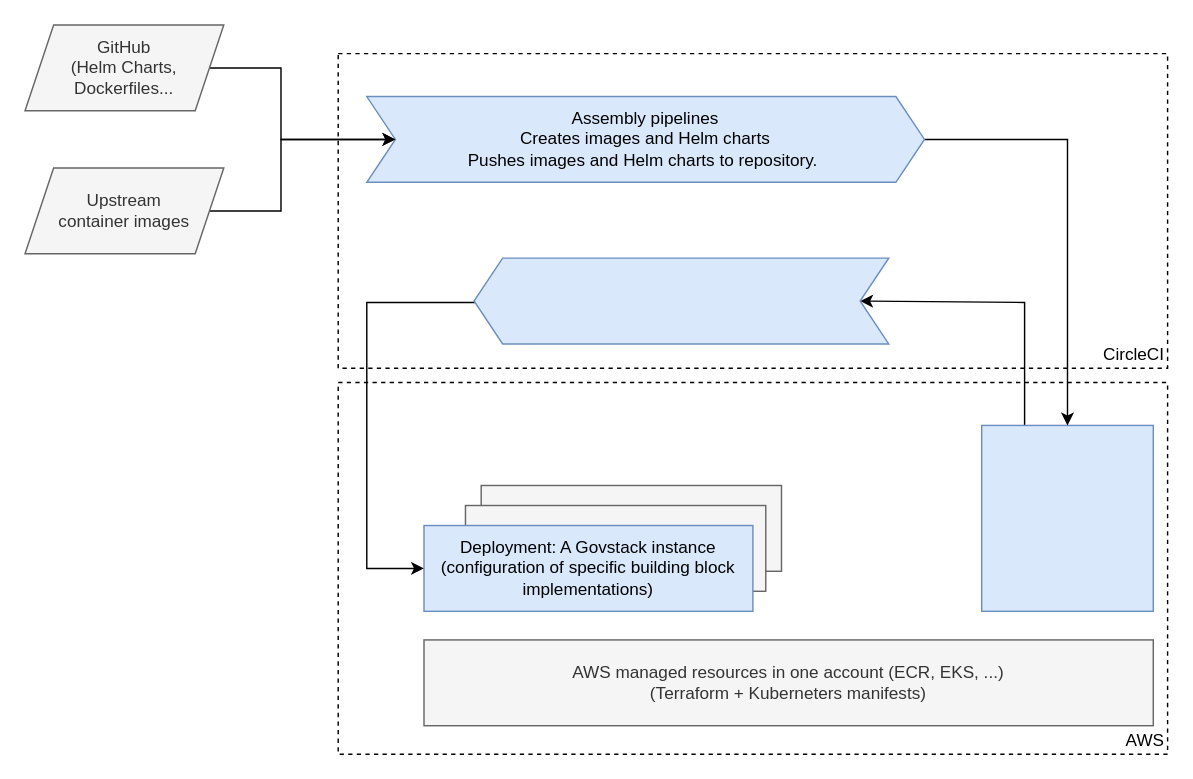
Some shapes in this 1193 by 779 pixel diagram are drawn without their labels. Each missing label, with the centre of its shape:
"Application repository" Building block container images + Helm charts in ECR: (1066,517)
Deployment pipeline: Deploys and configures a Govstack instance: (681,300)
